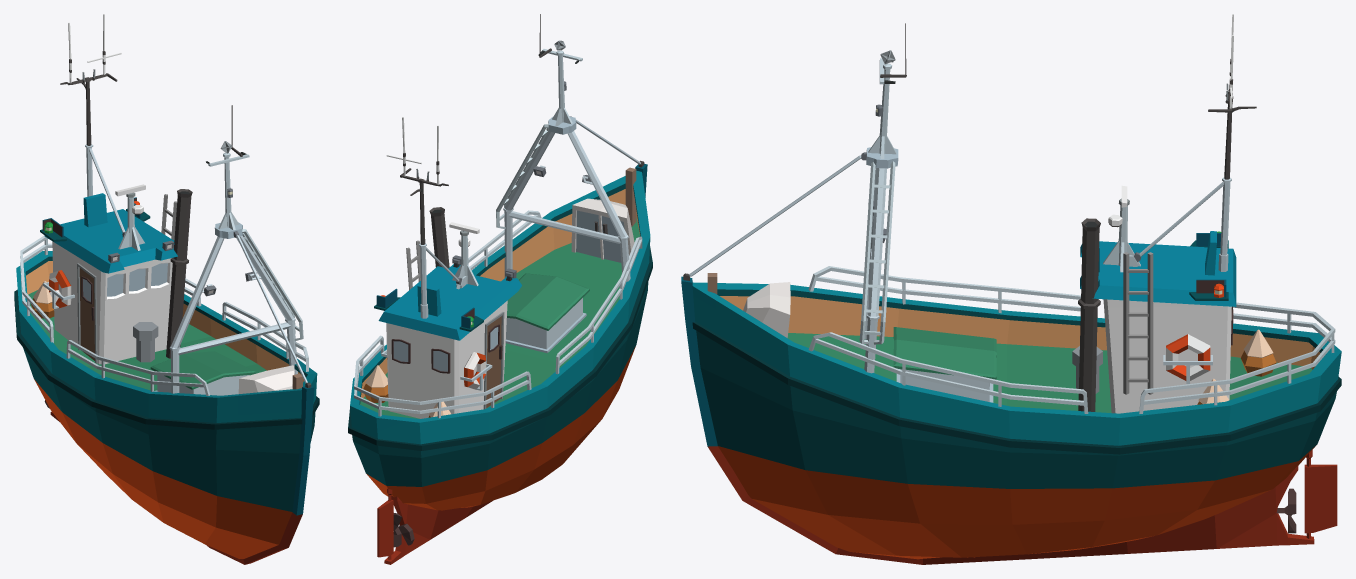
File: fishing_boat.glb
3 renders of one model, left to right at view 1: azimuth 30°, elevation 25°; view 2: azimuth 150°, elevation 25°; view 3: azimuth 270°, elevation 25°, orthographic. The views are drawn at different scales.
Parts seen in each view (by area): view 1: FB Medium Hull, FB M1 Cabin, FishHole, Exhaust, MastLadder, Lifetorus, Marking Lights.001, BumpBuoy.001, Ladder; view 2: FB Medium Hull, FB M1 Cabin, FishHole, Rudder, Exhaust, MastLadder, Marking Lights.001, BumpBuoy, Lifetorus, Propeller, Ladder; view 3: FB Medium Hull, FB M1 Cabin, FishHole, Exhaust, Ladder, MastLadder, Rudder, Lifetorus, Marking Lights.001, BumpBuoy.001.
Boxes of the visible parts, <box> form: FB Medium Hull: <box>14,105,319,564</box>; FB M1 Cabin: <box>43,14,177,364</box>; FishHole: <box>150,351,256,395</box>; Exhaust: <box>166,189,192,358</box>; MastLadder: <box>242,229,303,340</box>; Lifetorus: <box>49,270,71,308</box>; Marking Lights.001: <box>40,197,150,241</box>; BumpBuoy.001: <box>31,281,54,318</box>; Ladder: <box>161,194,177,240</box>; FB Medium Hull: <box>348,14,652,564</box>; FB M1 Cabin: <box>378,117,521,418</box>; FishHole: <box>505,273,589,353</box>; Rudder: <box>377,488,393,559</box>; Exhaust: <box>429,207,449,268</box>; MastLadder: <box>496,124,548,229</box>; Marking Lights.001: <box>374,288,483,331</box>; BumpBuoy: <box>363,365,388,402</box>; Lifetorus: <box>387,352,486,389</box>; Propeller: <box>393,513,414,547</box>; Ladder: <box>406,240,420,289</box>; FB Medium Hull: <box>681,23,1341,564</box>; FB M1 Cabin: <box>1080,14,1256,413</box>; FishHole: <box>893,327,996,402</box>; Exhaust: <box>1078,218,1100,411</box>; Ladder: <box>1123,252,1153,394</box>; MastLadder: <box>859,161,895,344</box>; Rudder: <box>1304,450,1337,538</box>; Lifetorus: <box>1166,334,1210,380</box>; Marking Lights.001: <box>1189,231,1228,300</box>; BumpBuoy.001: <box>1240,329,1276,376</box>.
Bounding box in the file's own units: 229 × 567 × 621.
2 materials, 2 textured.
